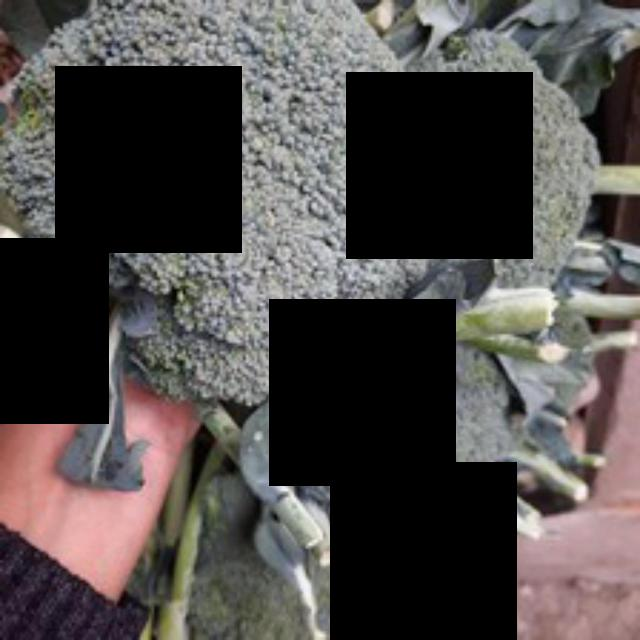broccoli: (0, 0, 428, 435)
